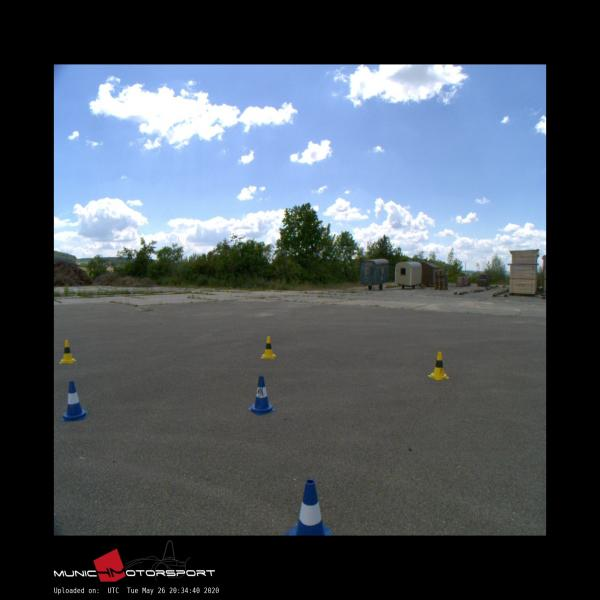blue_cone: (283, 479, 332, 535), (247, 376, 275, 414), (61, 382, 87, 420)
yellow_cone: (428, 352, 448, 379), (260, 336, 276, 358), (60, 340, 76, 362)
